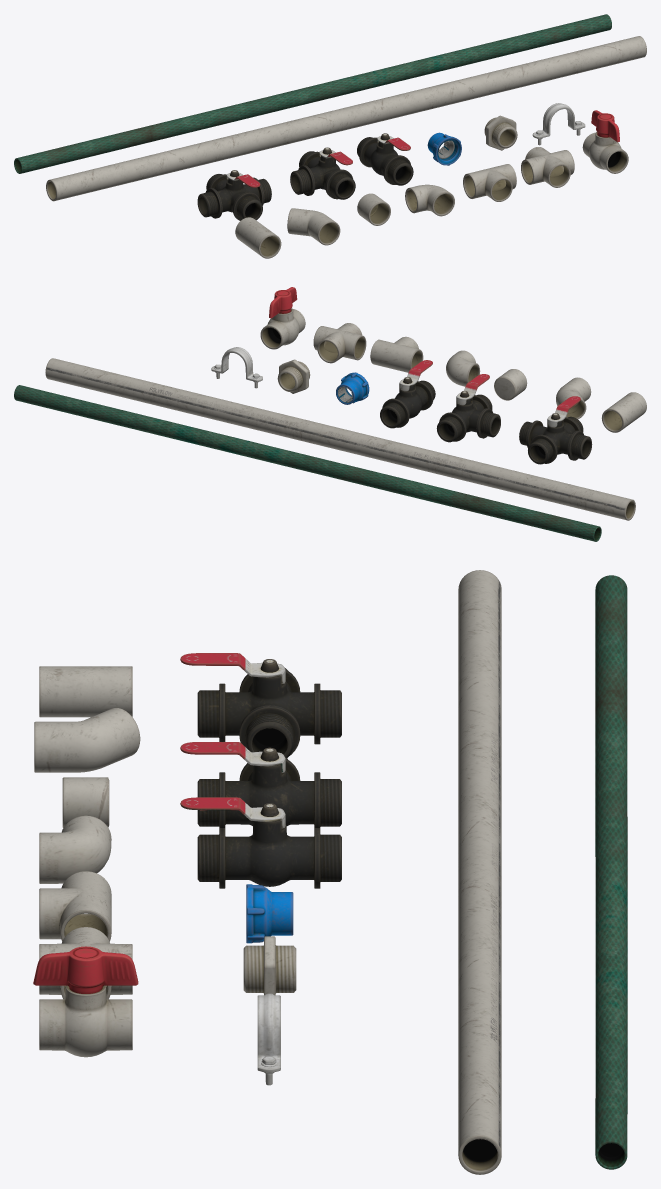
Rendered from modular_pipes_plastic_01_2k.gltf.
3 renders of one model, top to bottom at view 1: azimuth 30°, elevation 25°; view 2: azimuth 150°, elevation 25°; view 3: azimuth 270°, elevation 25°, orthographic. The views are drawn at different scales.
Parts seen in each view (by area): view 1: straight_pvc_pipe_01, garden_pipe, garden_pipe_connector_01, garden_pipe_connector_02, garden_pipe_connector_03, pvc_ball_valve, pvc_connector_01, pvc_connector_02, pvc_connector_05, pvc_connector_03, pvc_connector_06, pvc_connector_07 (+3 smaller); view 2: straight_pvc_pipe_01, garden_pipe, garden_pipe_connector_01, garden_pipe_connector_02, garden_pipe_connector_03, pvc_ball_valve, pvc_connector_01, pvc_connector_02, pvc_connector_06, pvc_connector_03, pvc_connector_07, pvc_connector_05 (+3 smaller); view 3: straight_pvc_pipe_01, garden_pipe, garden_pipe_connector_01, pvc_ball_valve, garden_pipe_connector_03, garden_pipe_connector_02, pvc_connector_05, pvc_connector_06, pvc_connector_02, pvc_connector_03, pvc_connector_07, garden_pipe_connector (+3 smaller).
Boxes of the visible parts, x1,y1,x2,y2 form: straight_pvc_pipe_01: [46, 36, 646, 201]; garden_pipe: [14, 14, 611, 173]; garden_pipe_connector_01: [197, 170, 271, 220]; garden_pipe_connector_02: [290, 147, 355, 199]; garden_pipe_connector_03: [357, 133, 413, 185]; pvc_ball_valve: [582, 110, 628, 173]; pvc_connector_01: [521, 147, 574, 187]; pvc_connector_02: [463, 164, 516, 201]; pvc_connector_05: [287, 208, 340, 245]; pvc_connector_03: [405, 184, 454, 216]; pvc_connector_06: [235, 217, 281, 258]; pvc_connector_07: [484, 115, 517, 150]; straight_pvc_pipe_01: [45, 358, 635, 520]; garden_pipe: [14, 385, 601, 541]; garden_pipe_connector_01: [519, 396, 592, 464]; garden_pipe_connector_02: [436, 374, 500, 442]; garden_pipe_connector_03: [380, 360, 435, 428]; pvc_ball_valve: [260, 287, 305, 349]; pvc_connector_01: [313, 323, 366, 363]; pvc_connector_02: [370, 336, 423, 372]; pvc_connector_06: [601, 392, 646, 432]; pvc_connector_03: [446, 350, 480, 386]; pvc_connector_07: [277, 359, 310, 393]; pvc_connector_05: [556, 377, 591, 419]; straight_pvc_pipe_01: [458, 570, 501, 1174]; garden_pipe: [595, 575, 627, 1169]; garden_pipe_connector_01: [180, 653, 341, 757]; pvc_ball_valve: [33, 946, 138, 1057]; garden_pipe_connector_03: [180, 797, 341, 888]; garden_pipe_connector_02: [180, 742, 341, 827]; pvc_connector_05: [34, 708, 140, 772]; pvc_connector_06: [39, 666, 132, 717]; pvc_connector_02: [39, 871, 111, 941]; pvc_connector_03: [39, 815, 111, 883]; pvc_connector_07: [243, 936, 296, 995]; garden_pipe_connector: [246, 884, 293, 943].
Size of the model in its own units: 0.8157 by 0.0757 by 0.3618.
1 material, 1 textured.
